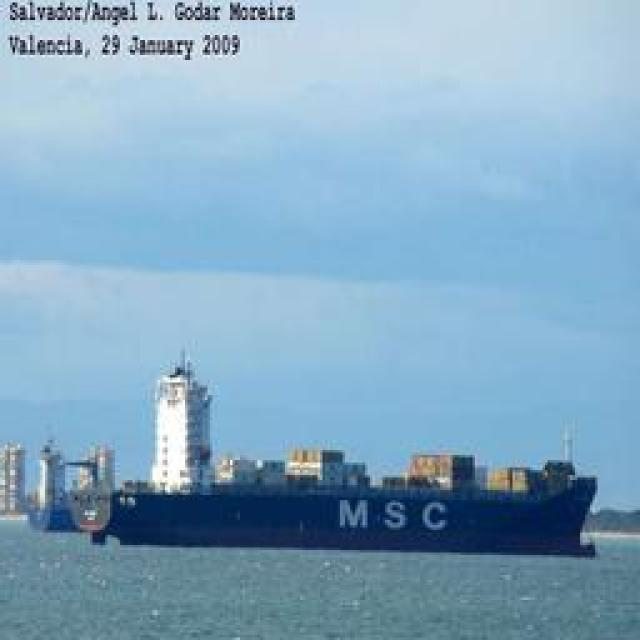ship2: (93, 362, 600, 559)
